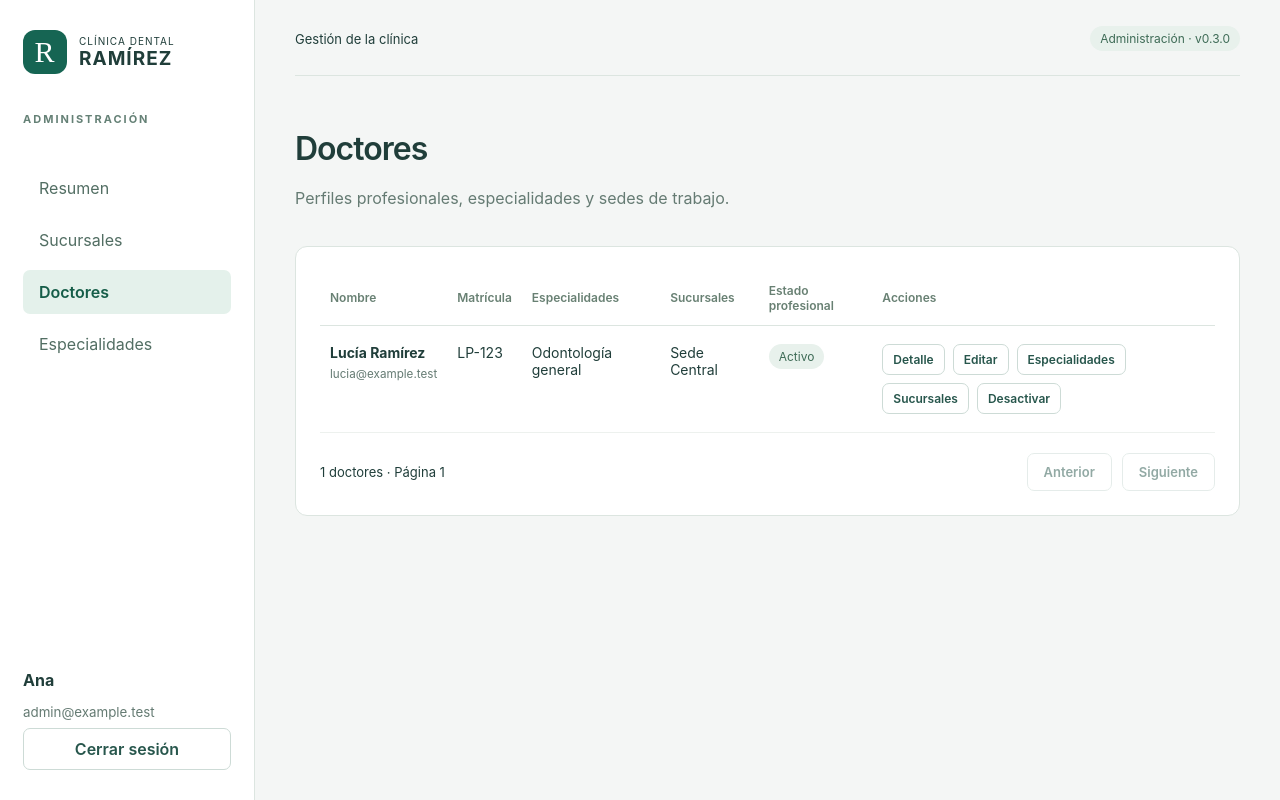
Test: permite cambiar isActive=true con doctors.disable mediante el endpoint de estado
Click the button "Desactivar": (1019, 398) [977,383,1061,414]
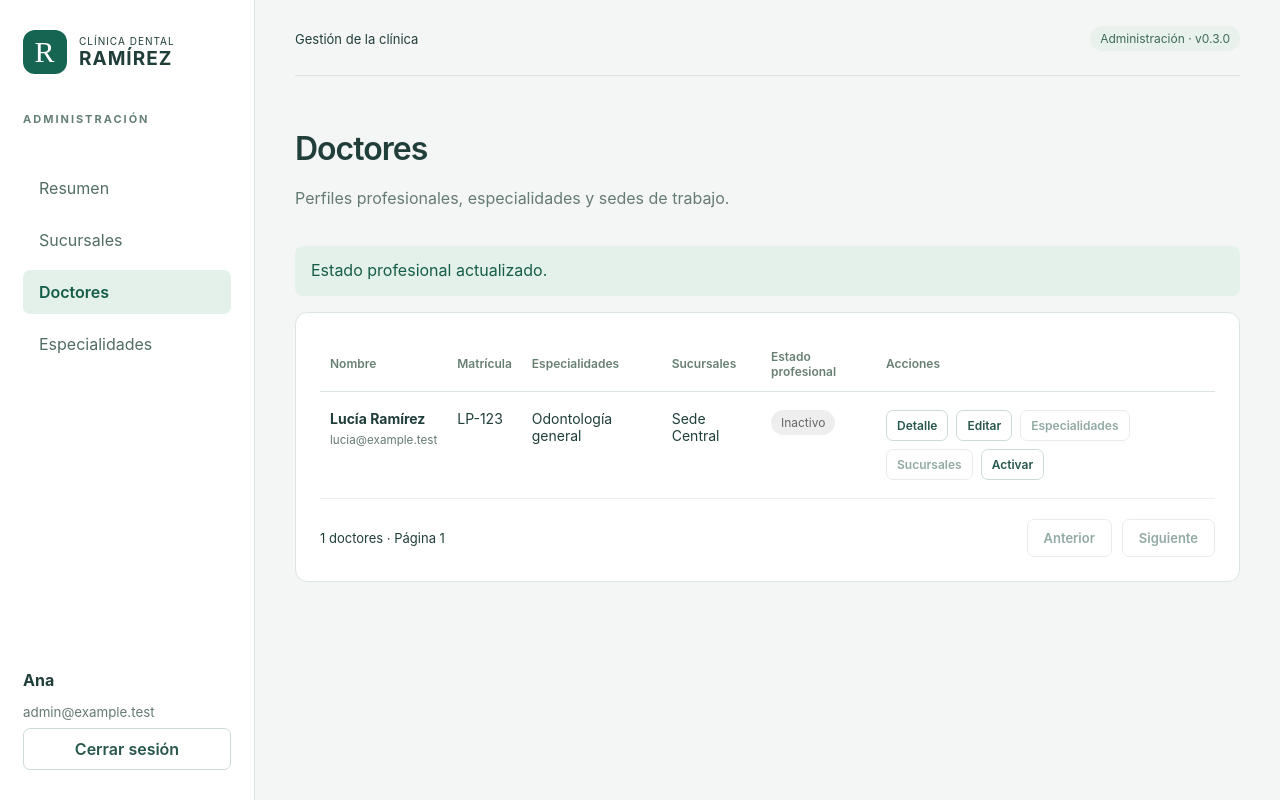
Expected: the button "Activar" is shown, [981,449,1044,480]
Expected: the text "Estado profesional actualizado." is shown, [295,246,1240,296]
